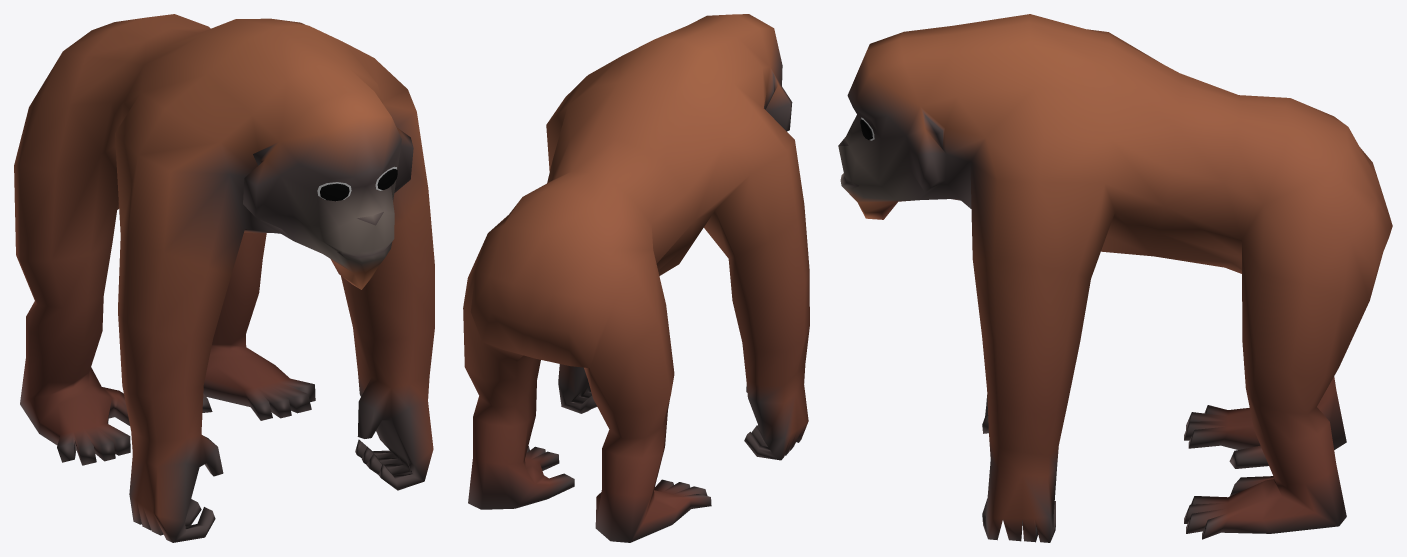
Rendered from animals-animals-orangutan_v2.glb.
3 renders of one model, left to right at view 1: azimuth 30°, elevation 25°; view 2: azimuth 150°, elevation 25°; view 3: azimuth 270°, elevation 25°, orthographic. The views are drawn at different scales.
Parts seen in each view (by area): view 1: Orangutan_v2; view 2: Orangutan_v2; view 3: Orangutan_v2.
Boxes of the visible parts, left/top/right/bottom form: Orangutan_v2: left=14, top=14, right=434, bottom=542; Orangutan_v2: left=463, top=14, right=809, bottom=542; Orangutan_v2: left=838, top=14, right=1392, bottom=542.
Size of the model in its own units: 0.7784 by 1.14 by 1.26.
